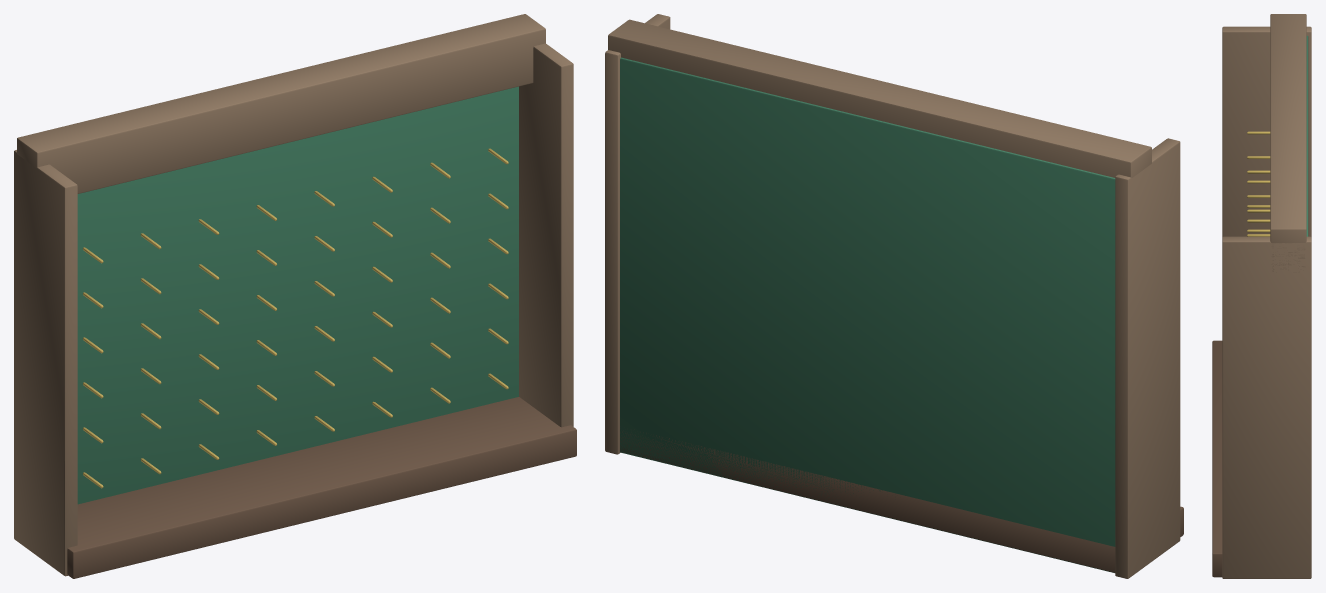
File: pegboard_wall.glb
3 views of the same model, side by side, from view 1: azimuth 30°, elevation 25°; view 2: azimuth 150°, elevation 25°; view 3: azimuth 270°, elevation 25° (orthographic). The views are drawn at different scales.
Visible parts, largest first — view 1: pegboard_wall; view 2: pegboard_wall; view 3: pegboard_wall.
Boxes of the visible parts, x1,y1,x2,y2 form: pegboard_wall: [14, 14, 576, 578]; pegboard_wall: [605, 14, 1183, 578]; pegboard_wall: [1212, 14, 1311, 578].
Size of the model in its own units: 3.08 by 2.33 by 0.6.
